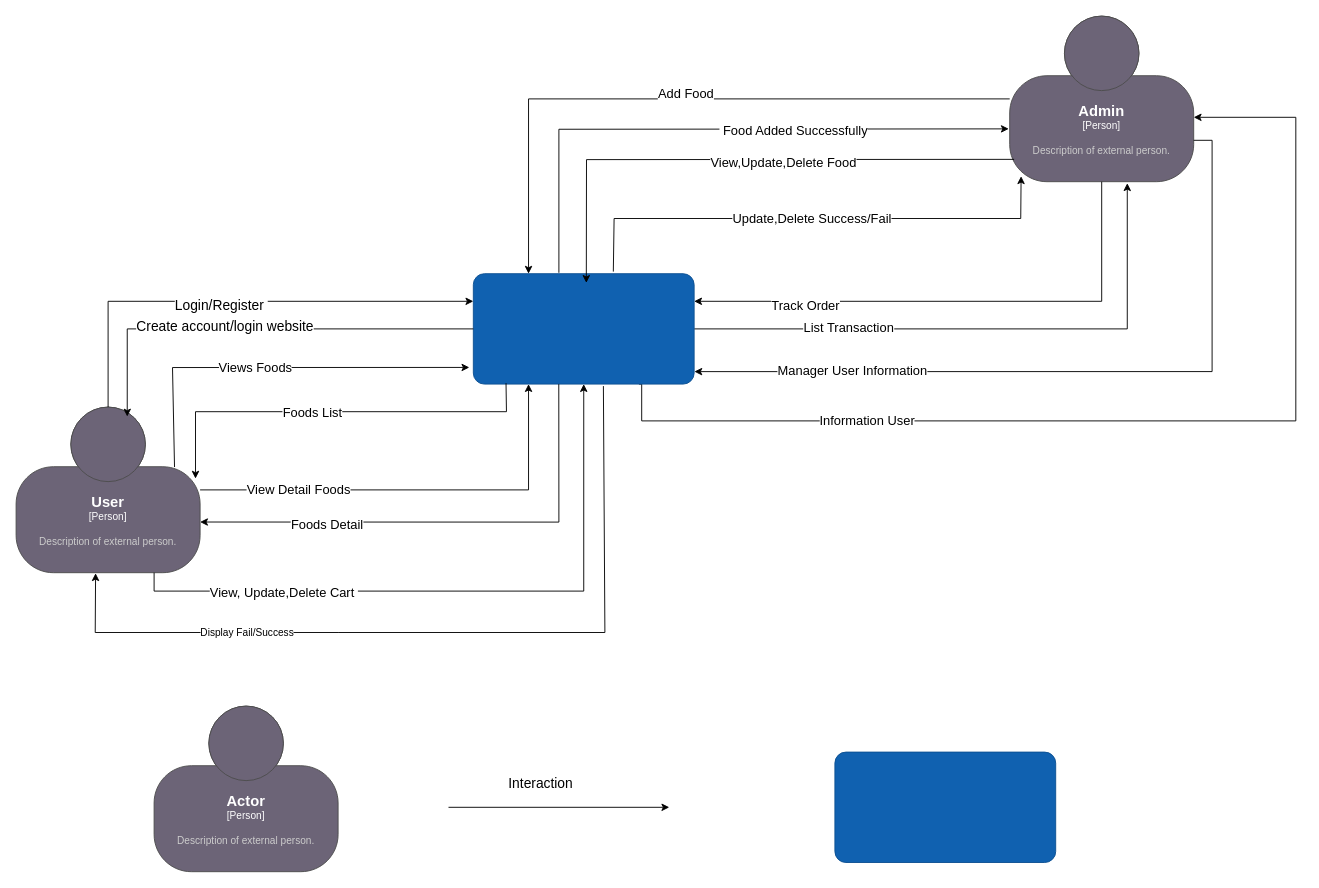
Some shapes in this 1319 by 888 pixel diagram are drawn without their labels. Here are the shapes that lost their labels. From the top down, the box of each, then its label:
(472, 273, 694, 384): Food_Order [Sotfware System] Description of software system.
(834, 751, 1056, 862): System [Software System] Description of software system.
